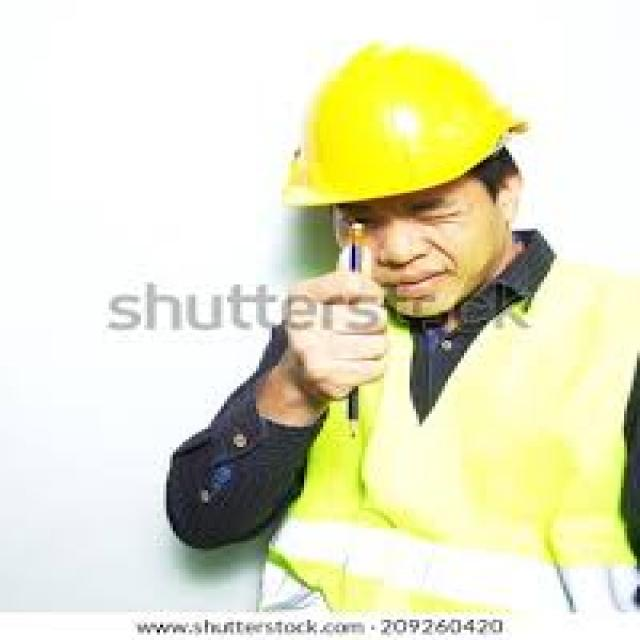Reflective-Jacket: (253, 254, 640, 635)
Safety-Helmet: (275, 36, 531, 210)
